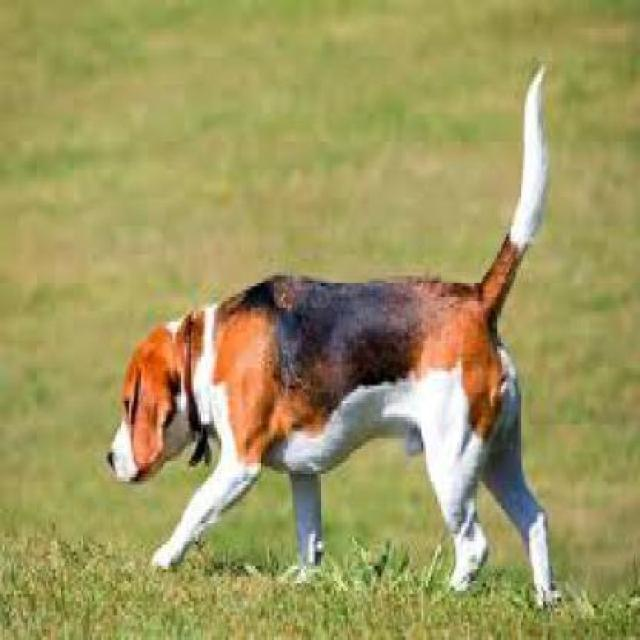Dog: (101, 54, 562, 621)
